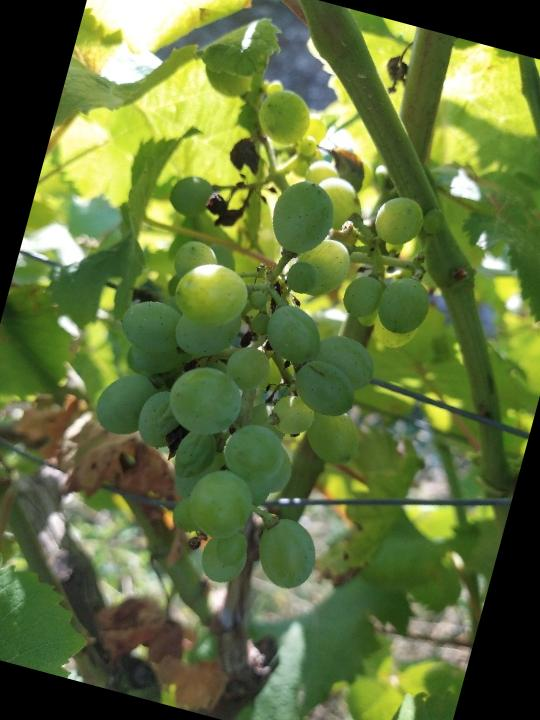grape: (55, 62, 478, 621)
